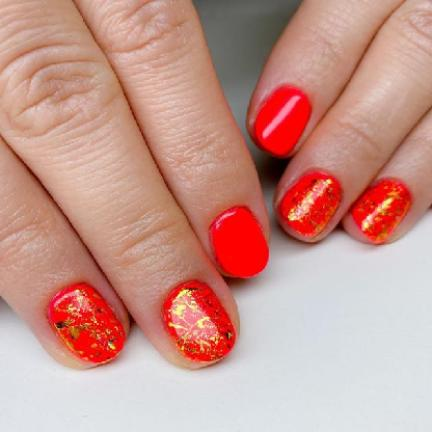Nail: (48, 284, 125, 363), (164, 281, 236, 362), (211, 207, 269, 277), (254, 87, 311, 157), (280, 173, 342, 237), (351, 179, 412, 243)
